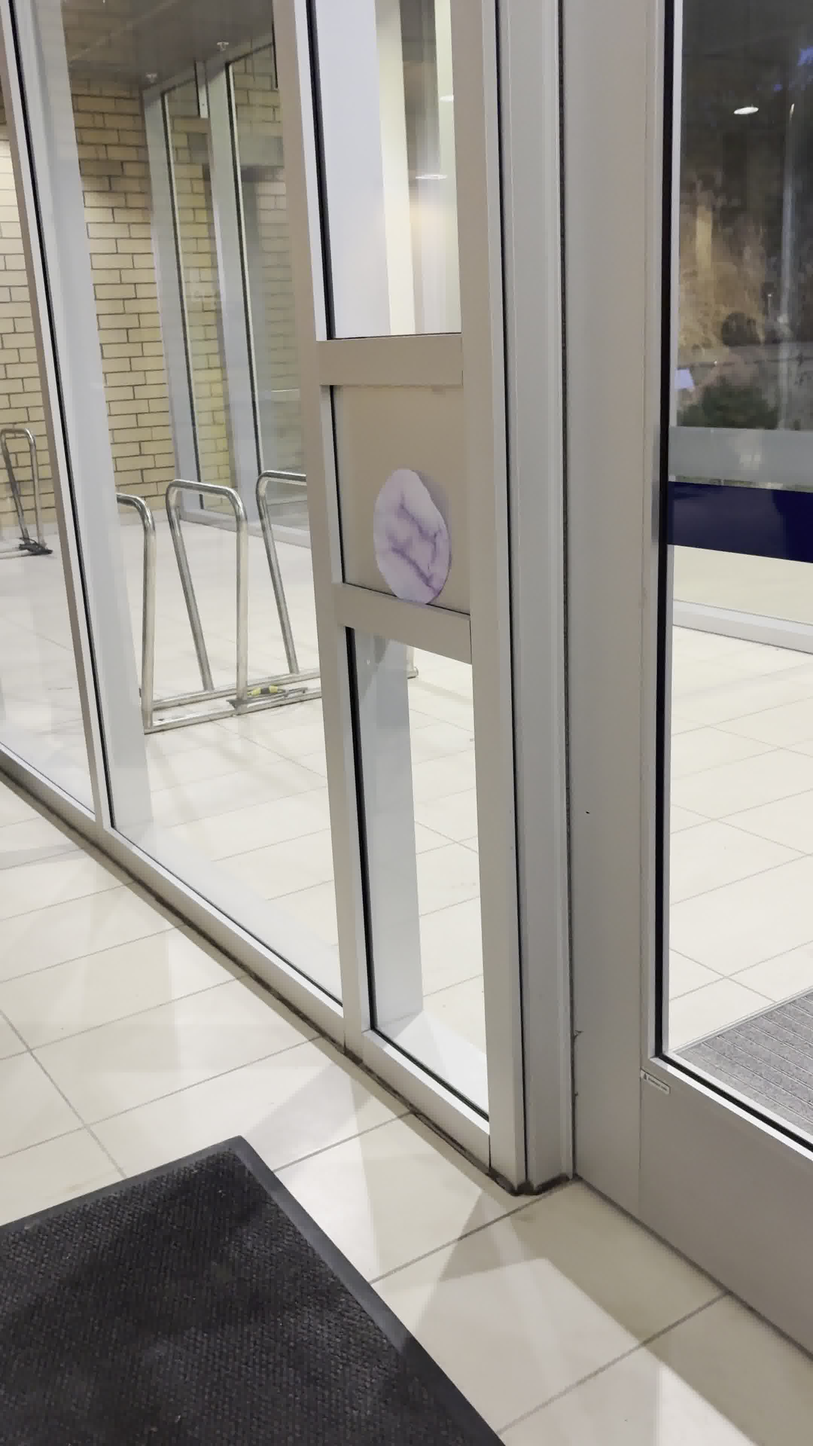Target: (372, 463, 453, 607)
